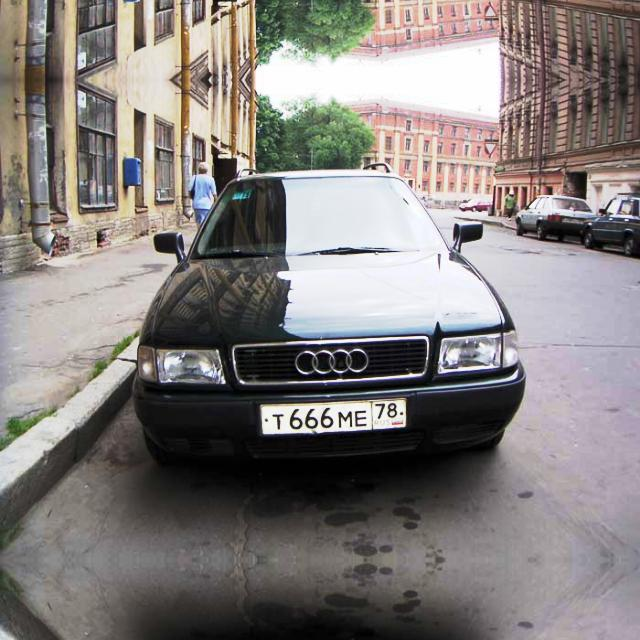citizen: (256, 394, 410, 438)
